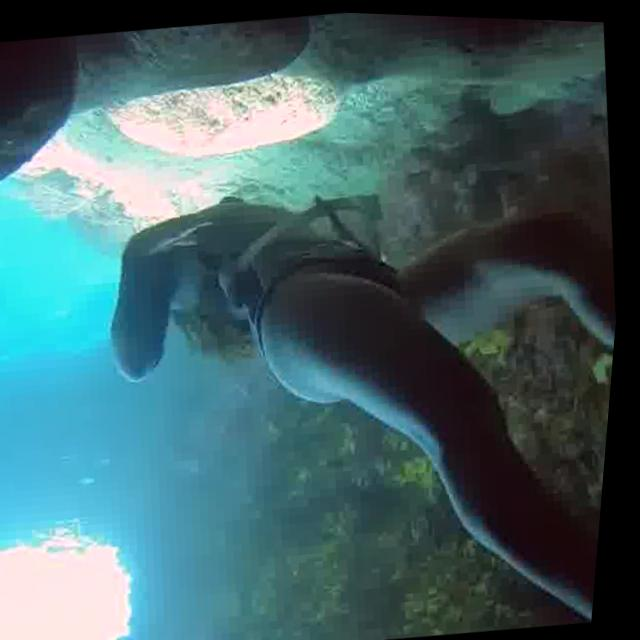human: (73, 123, 632, 640)
